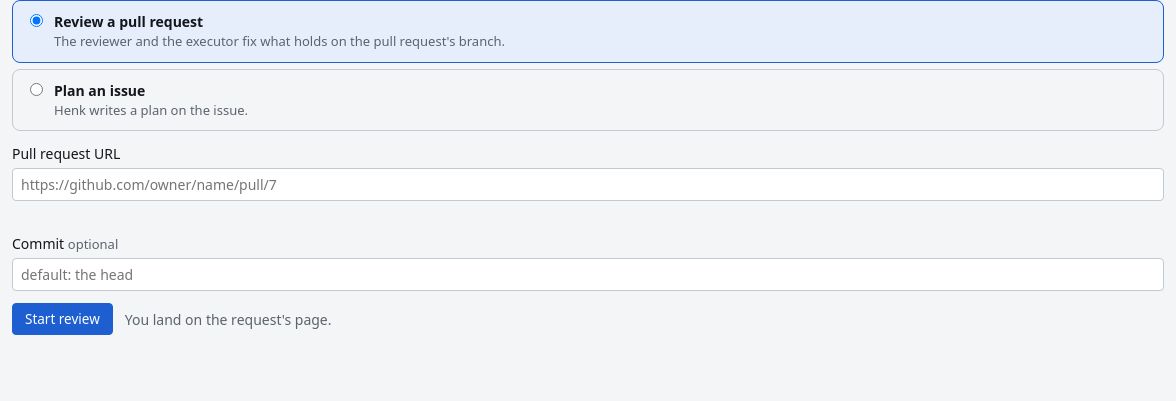
Test: StartForm › says what the URL names, and why it does not fit, as you type
In the field labelled "Pull request URL": (588, 184) left=12, top=168, right=1164, bottom=201, type "https://github.com/docspec/app/pull/7"
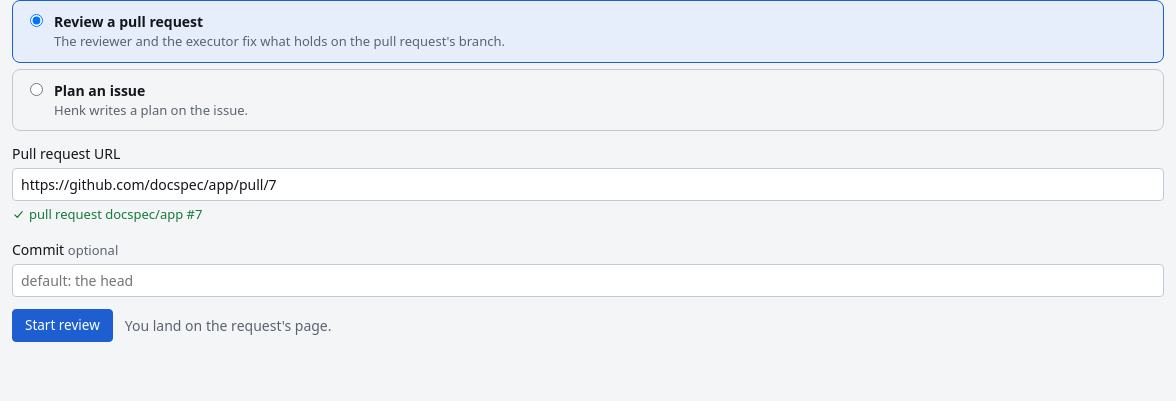
Expected: the button "Start review" is enabled, left=12, top=309, right=113, bottom=342
Expected: the element showing "pull request docspec/app #7" is shown, left=12, top=205, right=202, bottom=224
Click the radio button labelled "Plan an issue Henk writes a plan on the issue.": (36, 89) left=30, top=82, right=43, bottom=96
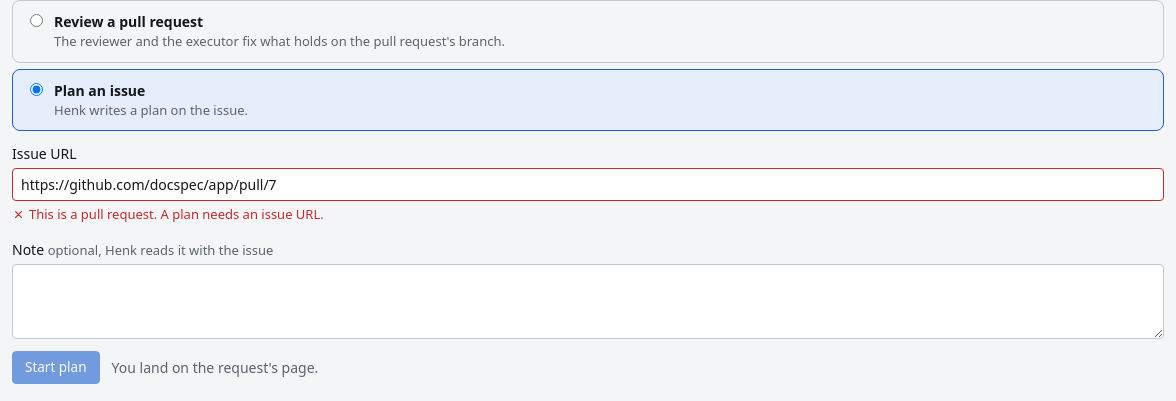
Expected: the text "Issue URL" is shown, left=12, top=144, right=77, bottom=163
Expected: the element showing "This is a pull request. A plan needs an issue URL." is shown, left=12, top=205, right=324, bottom=224
Expected: the button "Start plan" is disabled, left=12, top=351, right=100, bottom=384
